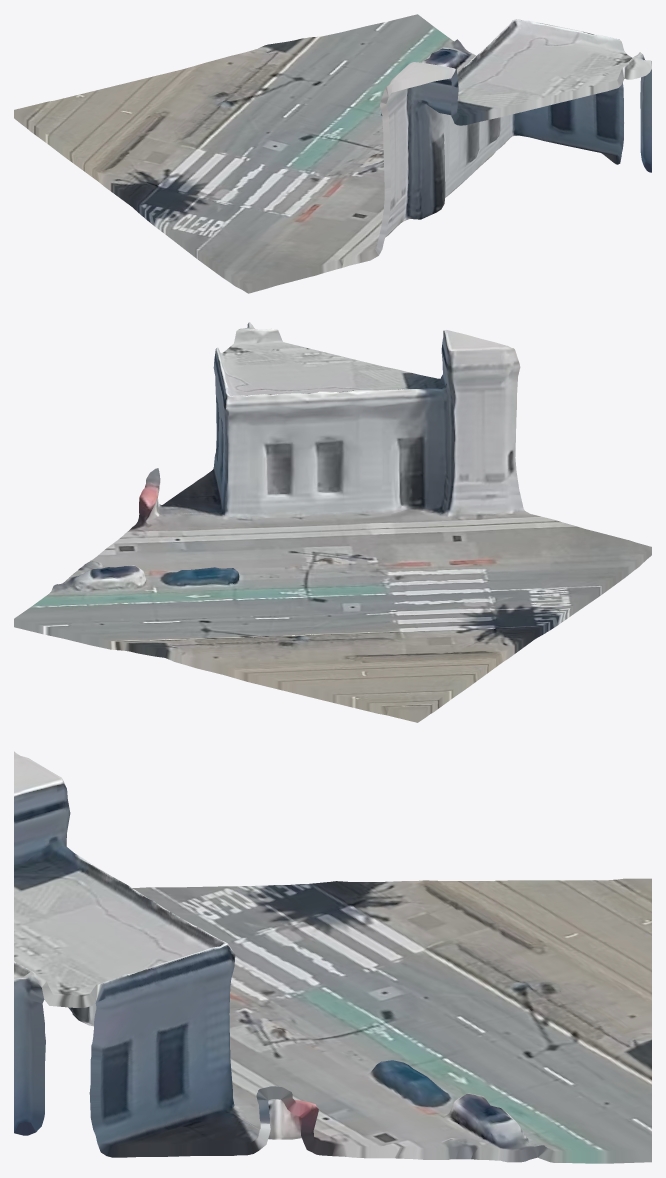
File: z20-167769-405192-h0-yup-uvflip-v3-world.glb
The picture shows the model from 3 angles, top to bottom: view 1: azimuth 30°, elevation 25°; view 2: azimuth 150°, elevation 25°; view 3: azimuth 270°, elevation 25°; orthographic projection. The views are drawn at different scales.
Bounding box in the file's own units: 30.16 × 12.72 × 30.32.
1 material, 1 textured.
